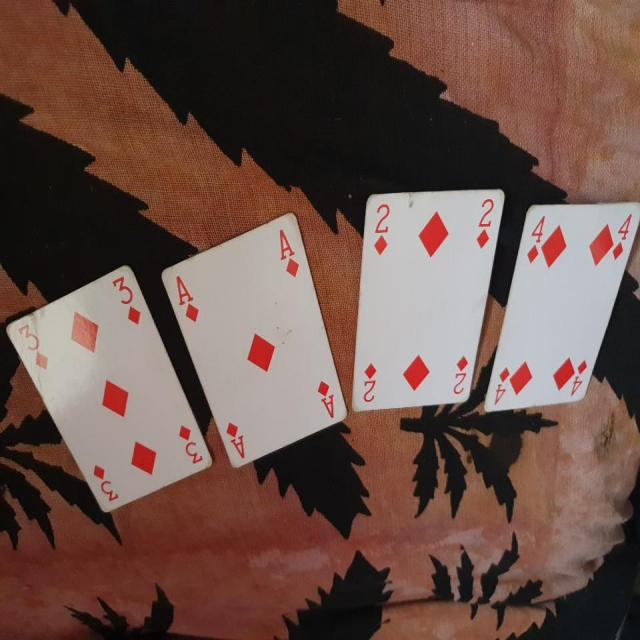2 Diamonds: (346, 179, 503, 406)
3 Diamonds: (5, 264, 212, 516)
4 Diamonds: (483, 197, 640, 420)
A Diamonds: (144, 205, 360, 474)
